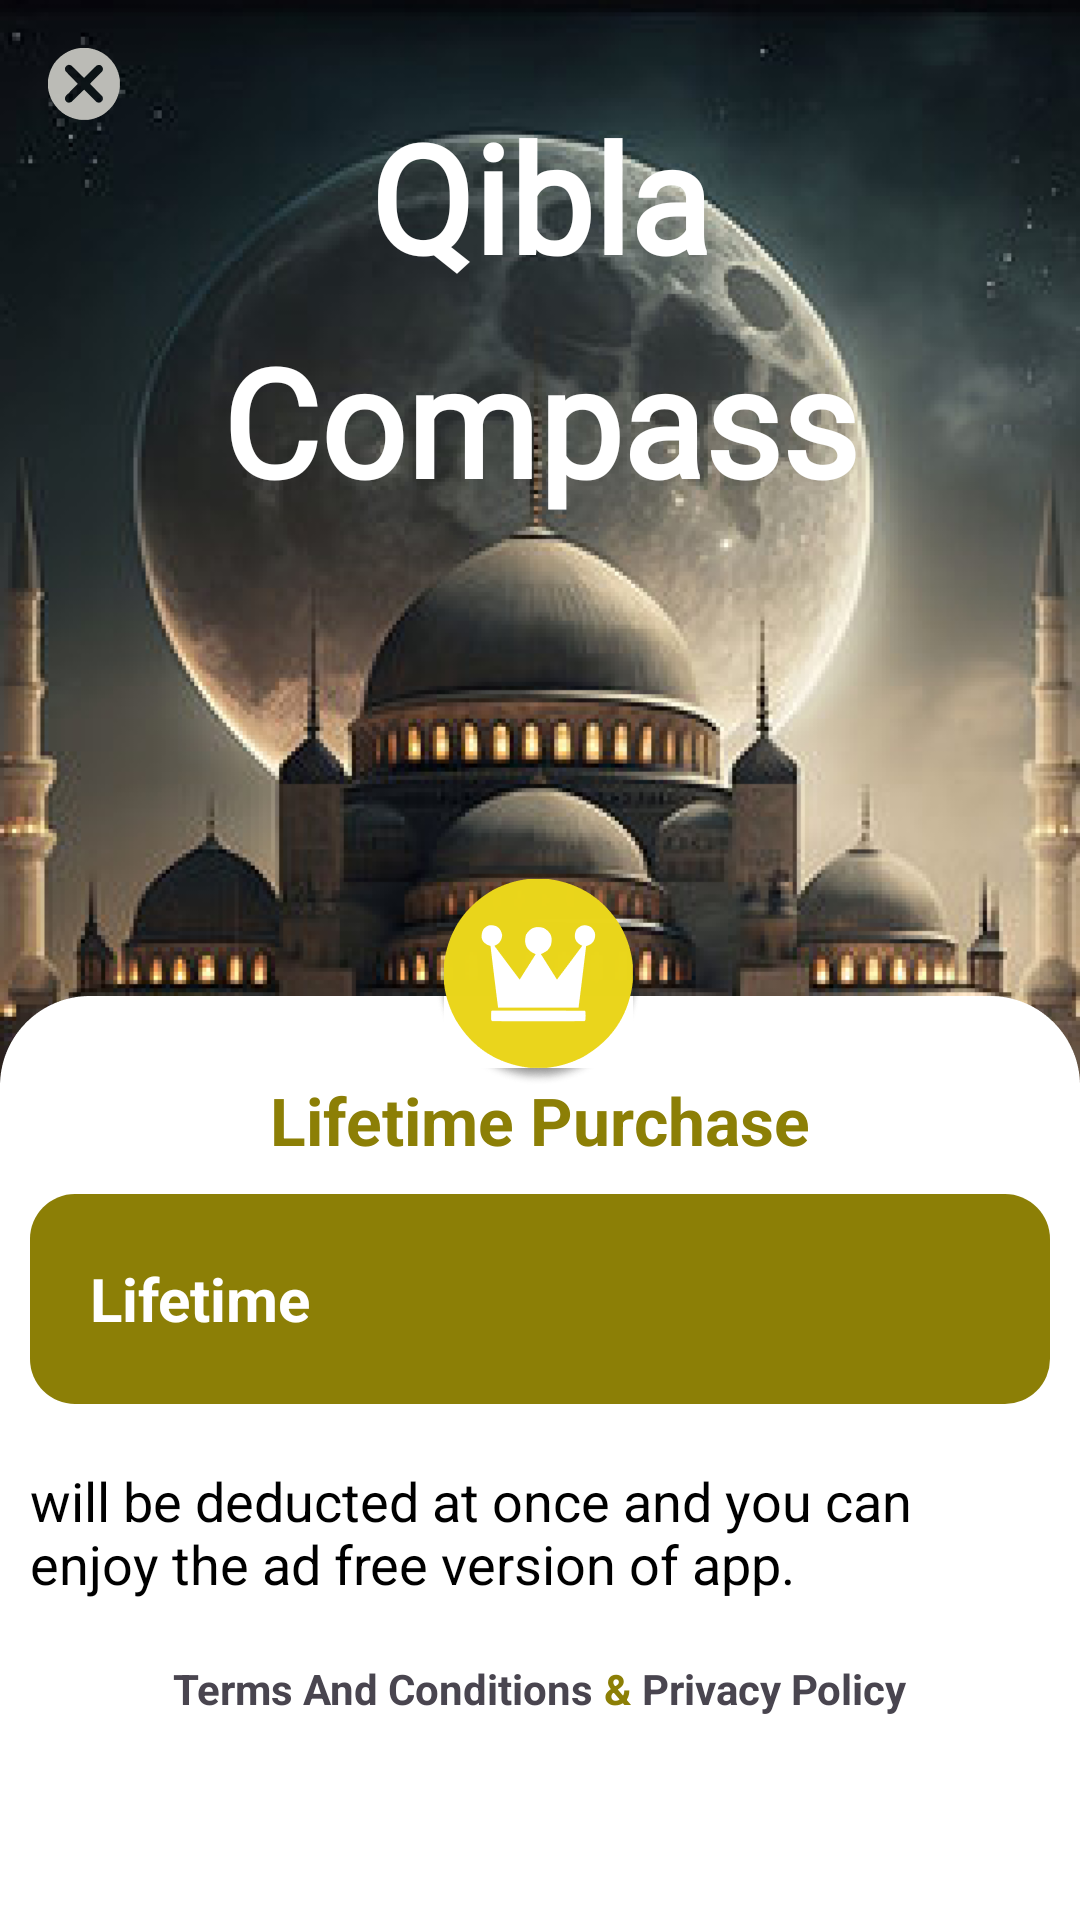

Icons on this 1080px×1920px Android screen, each with the point to tap as (x=x, y=y):
close: (x=84, y=84)
